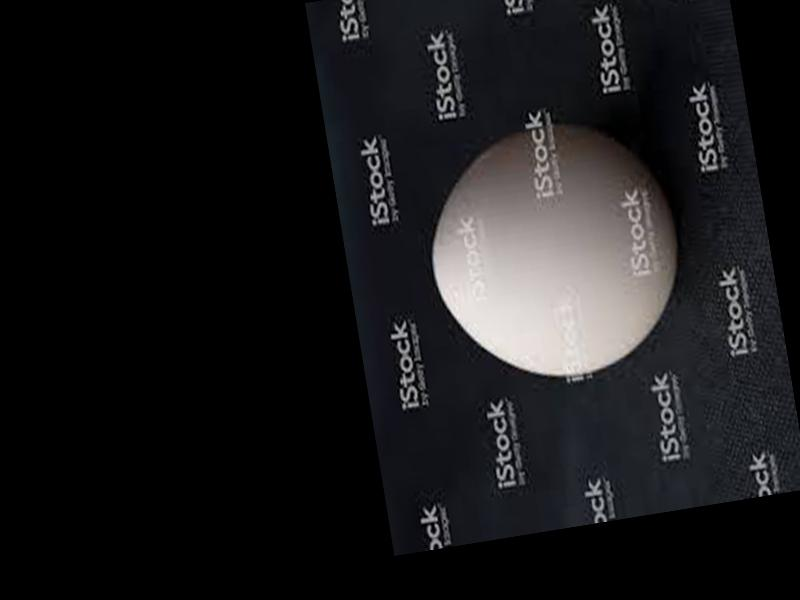Eggs: (413, 107, 697, 394)
